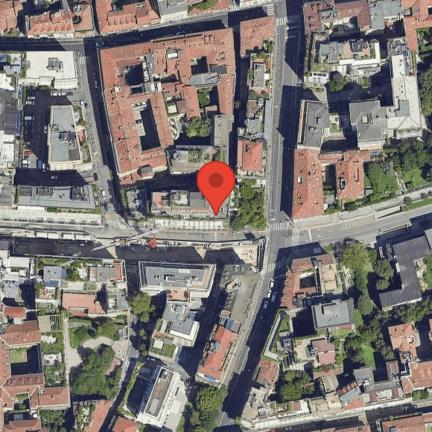area_open: (0, 326, 41, 408), (17, 87, 53, 171), (389, 52, 423, 129), (371, 0, 404, 40), (299, 104, 327, 148)
built: (99, 39, 176, 185), (200, 262, 264, 384), (158, 26, 234, 115), (304, 44, 382, 96), (0, 0, 97, 37), (283, 253, 341, 313), (137, 366, 186, 428), (0, 49, 80, 85), (148, 186, 229, 221), (301, 0, 374, 36), (293, 144, 326, 221), (137, 261, 218, 292), (97, 0, 162, 37), (14, 181, 94, 210), (239, 13, 276, 61), (403, 0, 432, 58), (349, 101, 382, 151), (236, 130, 268, 181), (333, 148, 361, 205), (380, 411, 432, 432)
vegetation_high: (65, 319, 128, 405), (366, 139, 432, 205), (176, 387, 224, 432), (232, 180, 267, 236), (132, 293, 163, 346), (350, 329, 389, 363), (274, 371, 321, 399), (353, 297, 385, 329), (418, 62, 432, 123)
vegetation_low: (339, 243, 396, 298)
